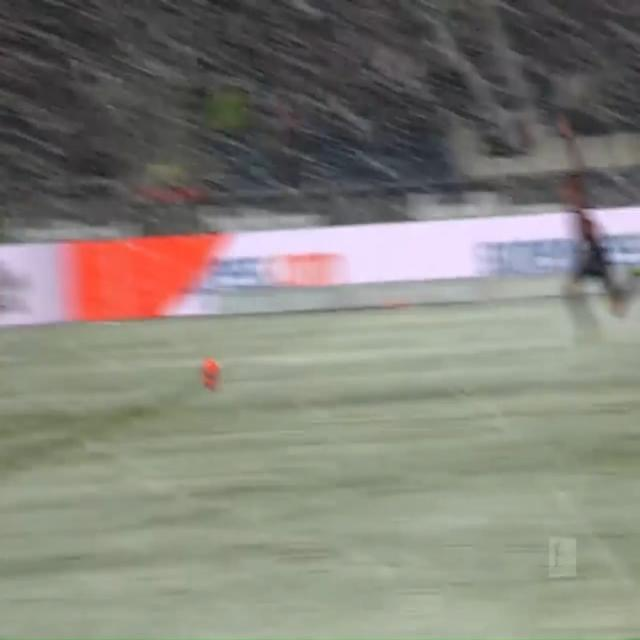ball: (193, 346, 229, 401)
player: (539, 125, 637, 351)
